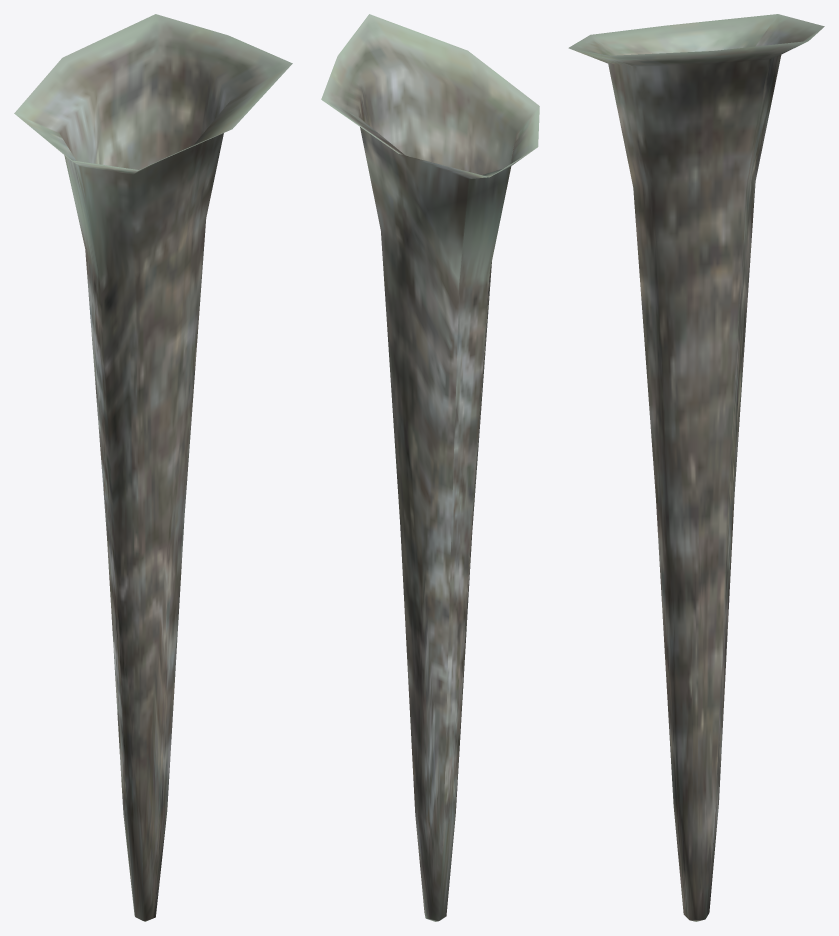
File: TROLLHOLE02_PS-MAINSTALAG32.fbx
The picture shows the model from 3 angles, left to right: view 1: azimuth 30°, elevation 25°; view 2: azimuth 150°, elevation 25°; view 3: azimuth 270°, elevation 25°; orthographic projection. The views are drawn at different scales.
Parts seen in each view (by area): view 1: TROLLHOLE02_PS-MAINSTALAG32; view 2: TROLLHOLE02_PS-MAINSTALAG32; view 3: TROLLHOLE02_PS-MAINSTALAG32.
Boxes of the visible parts, x1,y1,x2,y2 form: TROLLHOLE02_PS-MAINSTALAG32: (14, 14, 292, 921); TROLLHOLE02_PS-MAINSTALAG32: (321, 14, 539, 921); TROLLHOLE02_PS-MAINSTALAG32: (568, 14, 824, 921).
Size of the model in its own units: 10845 by 44601 by 11260.
Materials: 1 (1 with a texture image).
